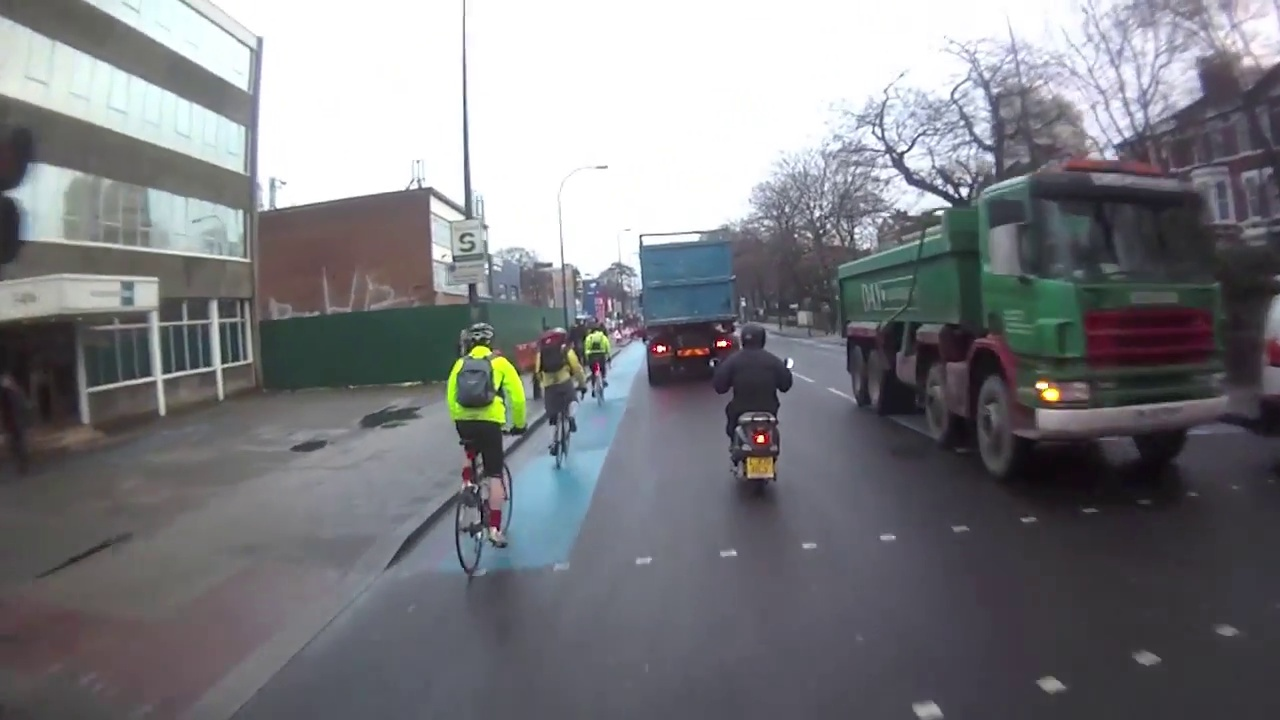cyclist_back: (447, 307, 522, 580), (706, 317, 804, 507), (534, 326, 588, 473), (583, 315, 618, 414)
